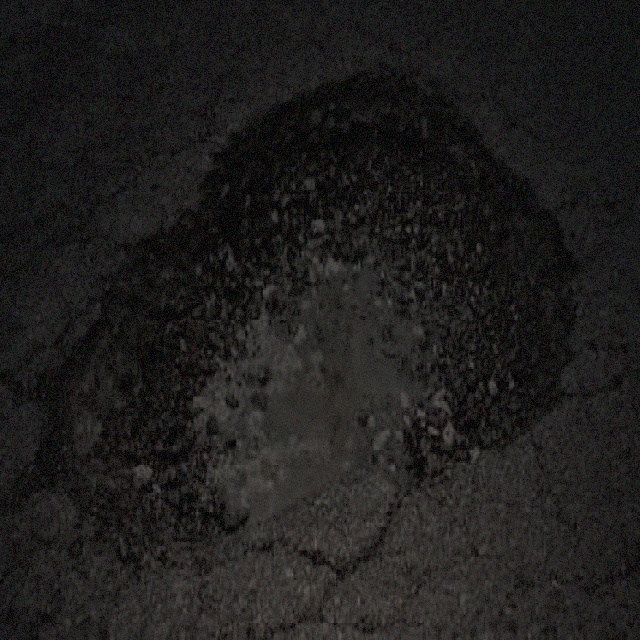pothole: (25, 56, 586, 578)
